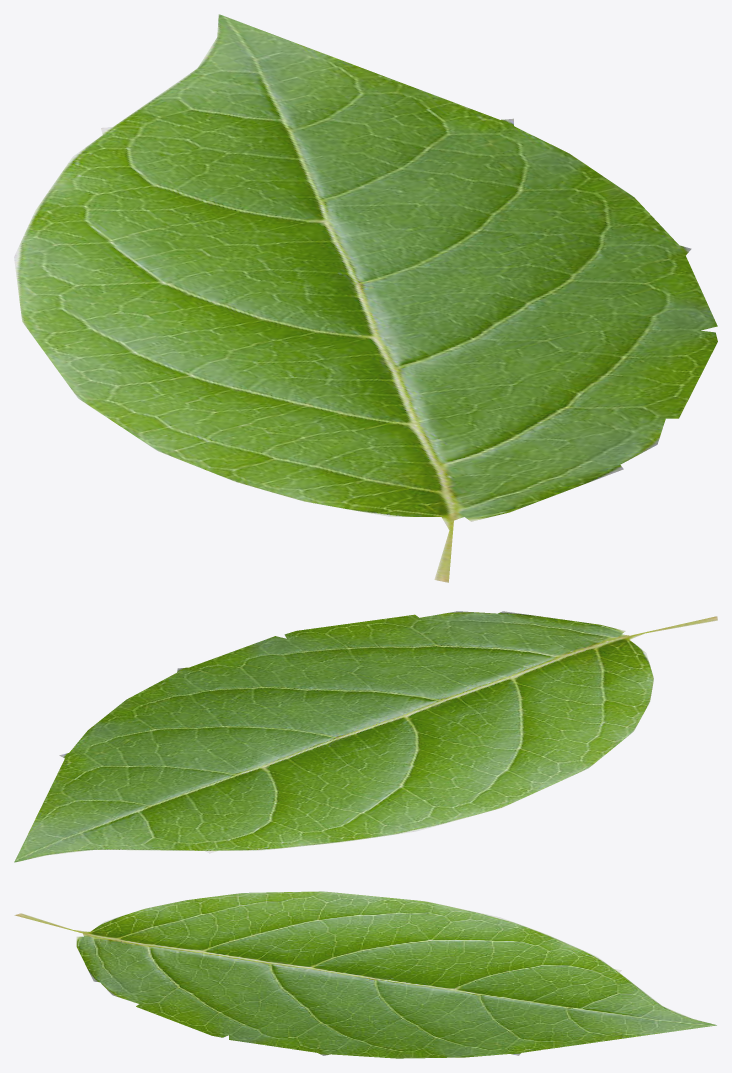
Rendered from single_leaf.glb.
3 renders of one model, top to bottom at view 1: azimuth 30°, elevation 25°; view 2: azimuth 150°, elevation 25°; view 3: azimuth 270°, elevation 25°, orthographic. The views are drawn at different scales.
Visible parts, largest first — view 1: LeafObject; view 2: LeafObject; view 3: LeafObject.
Boxes of the visible parts, x1,y1,x2,y2 form: LeafObject: [14, 14, 717, 582]; LeafObject: [14, 611, 717, 862]; LeafObject: [14, 891, 716, 1058].
Size of the model in its own units: 322 by 0 by 573.
Materials: 1 (1 with a texture image).
